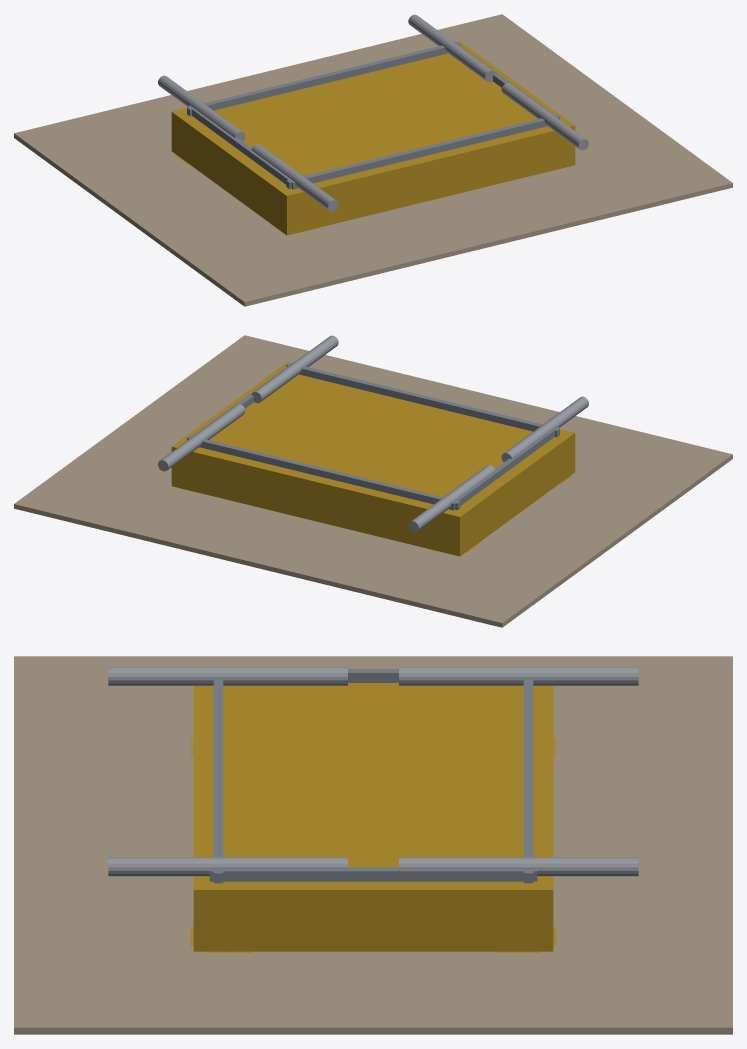
Rendered from stage_05_beams.glb.
3 views of the same model, one above another, from view 1: azimuth 30°, elevation 25°; view 2: azimuth 150°, elevation 25°; view 3: azimuth 270°, elevation 25° (orthographic). The views are drawn at different scales.
Parts seen in each view (by area): view 1: world; view 2: world; view 3: world.
Part boxes in pixels (bbox=[...]): world: bbox=[14, 14, 732, 306]; world: bbox=[14, 335, 732, 627]; world: bbox=[14, 656, 732, 1034].
Bounding box in the file's own units: 11 × 1.89 × 9.
